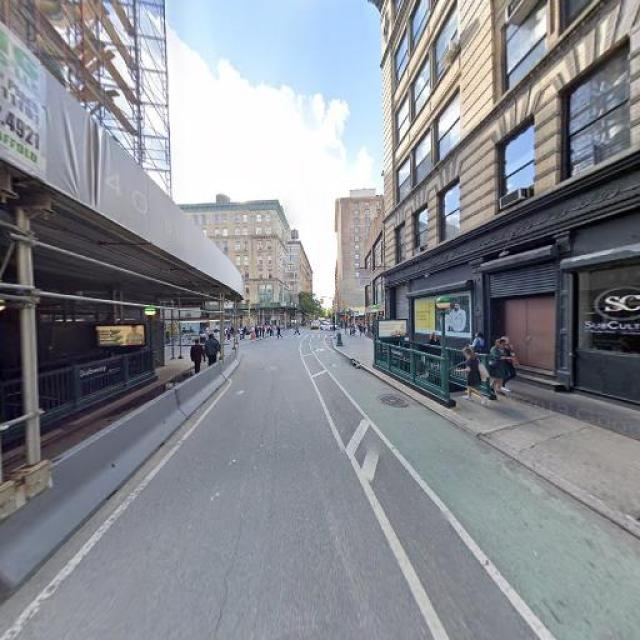Building: (387, 1, 640, 409), (1, 1, 52, 417), (365, 203, 384, 343)
